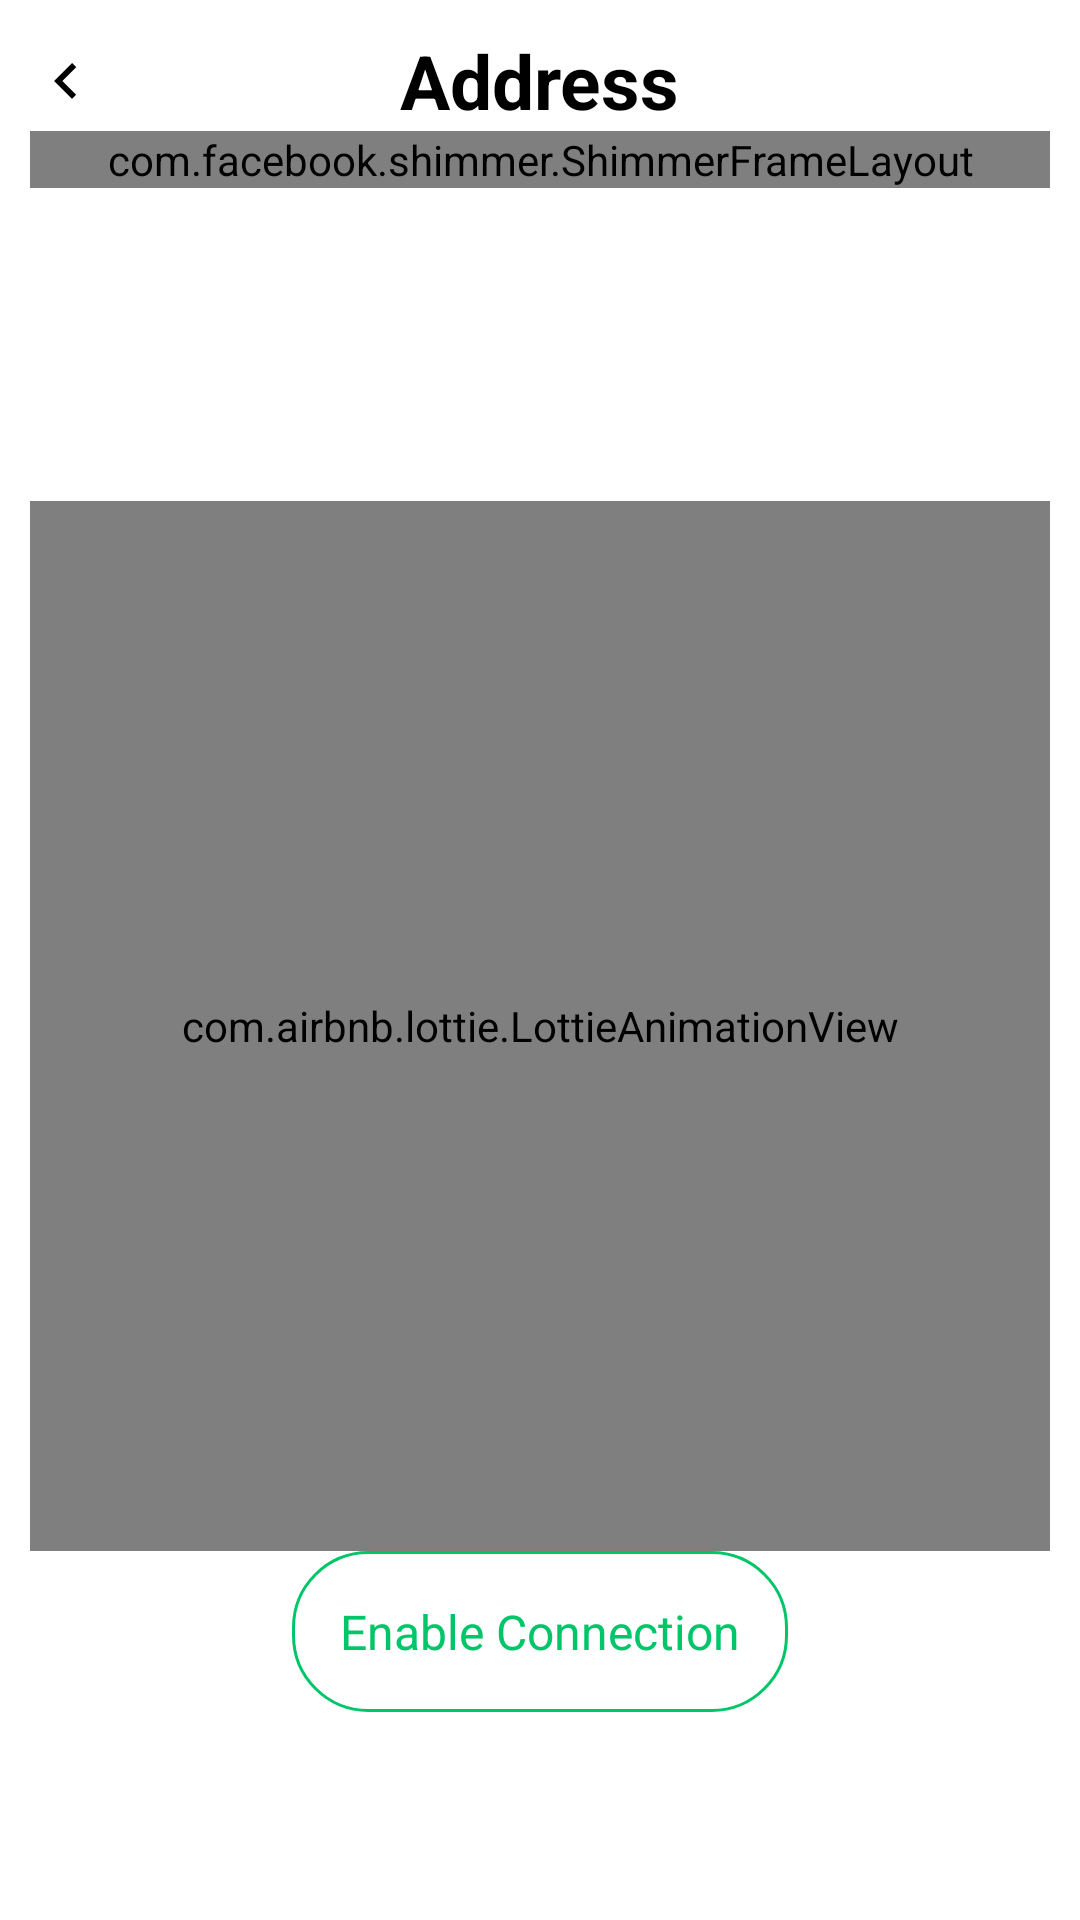

Point at icon controls on the screen. Image size 1080px×1920px, points as [x,y].
Go back: [65,81]
